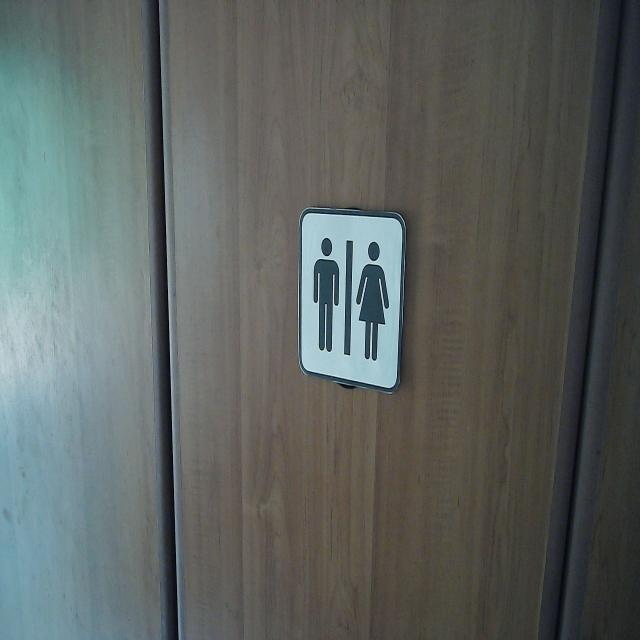restroom: (297, 203, 408, 397)
